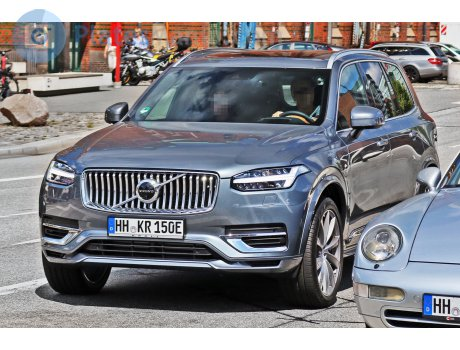License Plates: (113, 216, 184, 235)
